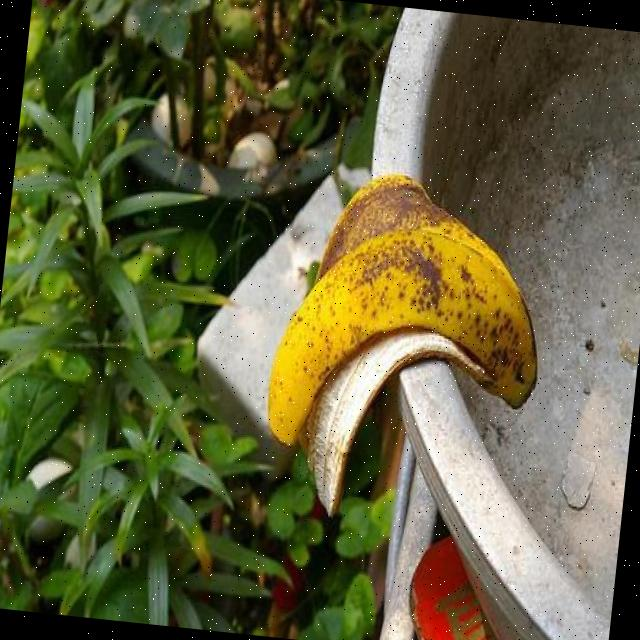banana-peel: (253, 160, 557, 536)
